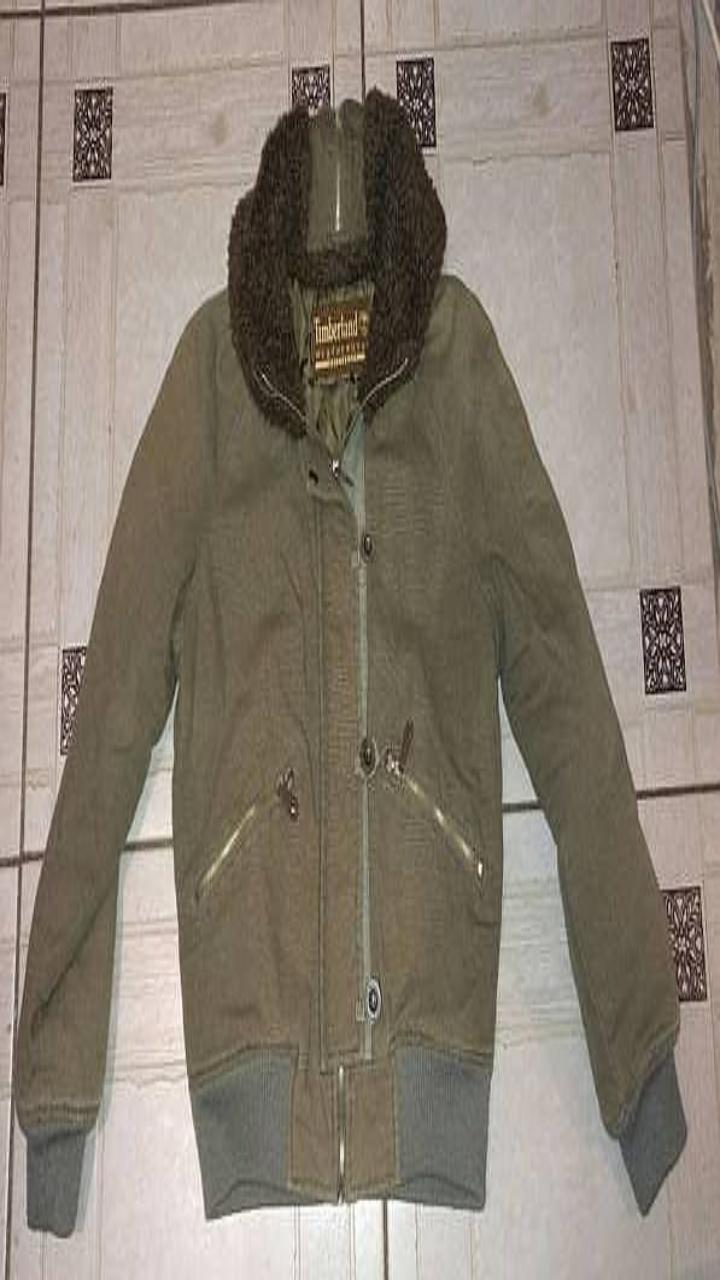Sports_Jacket: (15, 90, 685, 1234)
